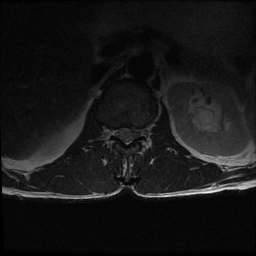CCS_normal: (123, 121, 131, 151)
LFS_normal: (137, 125, 144, 141)
LLS_normal: (131, 124, 137, 146)
RFS_stenosis: (111, 125, 117, 140)
RLS_normal: (117, 124, 124, 145)
